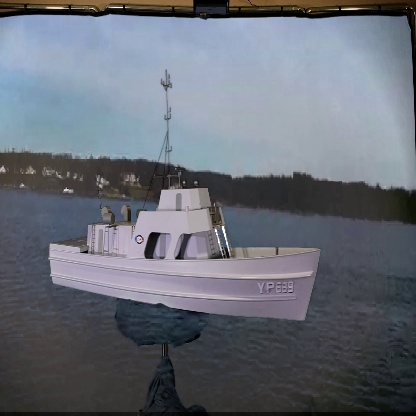YP689: (44, 68, 324, 322)
